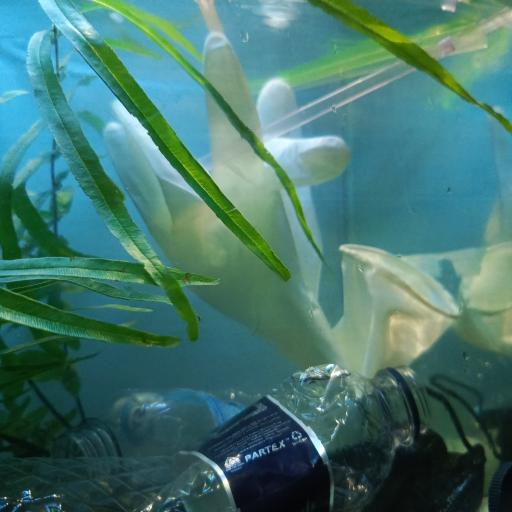bottle_cap: (488, 456, 511, 512)
glove: (102, 32, 460, 392)
mask: (335, 380, 486, 512)
plastic_bottle: (0, 366, 429, 512), (50, 390, 262, 462)
plastic_straw: (185, 26, 485, 170)
